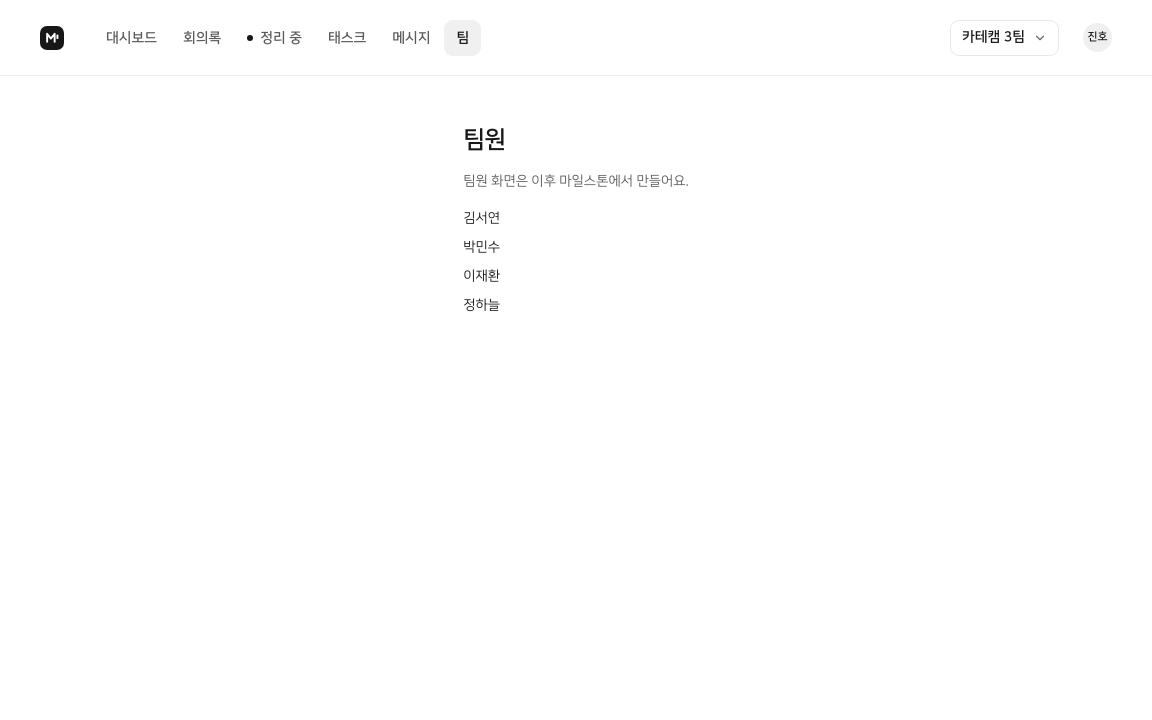
it: 로그아웃 (U2-7) › 로그아웃 뒤 다시 로그인하면 공간 개수 분기로 간다 — 재방문이 아니다
Expected: the list item "김서연" is shown, x1=463 y1=211 x2=500 y2=225
Click the button with aria-label "내 계정" at [1098, 38], box x1=1083 y1=23 x2=1112 y2=52
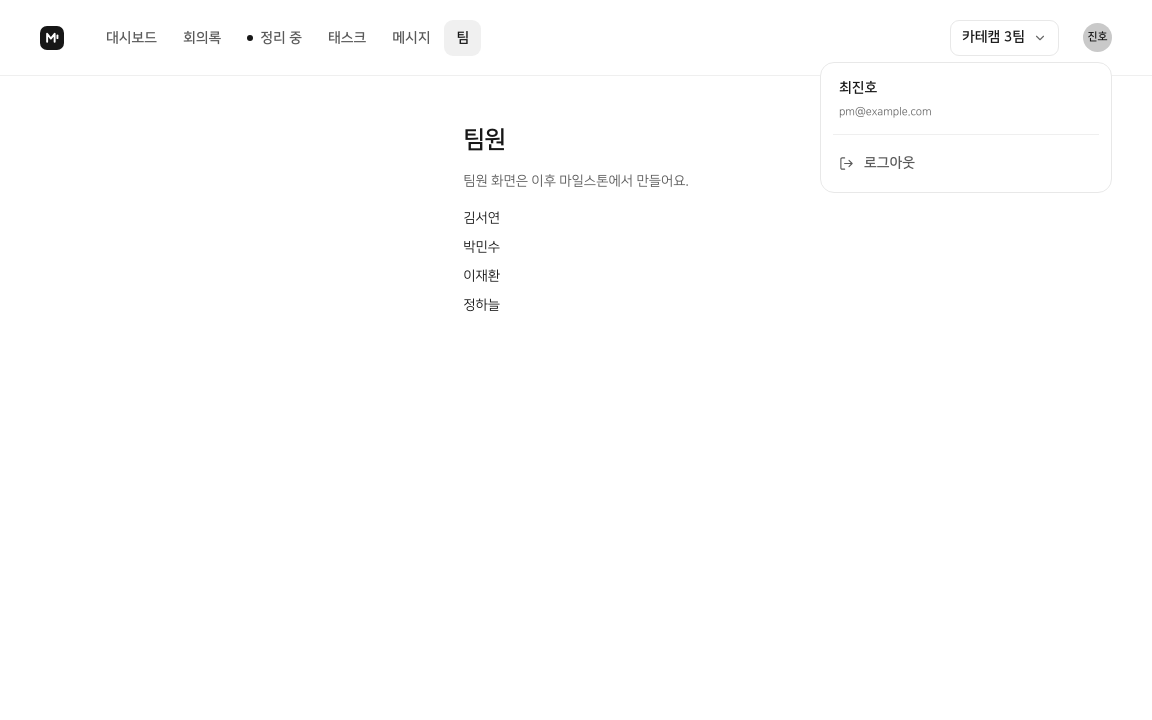
Click the menu item "로그아웃" at [877, 163], box x1=839 y1=155 x2=915 y2=171
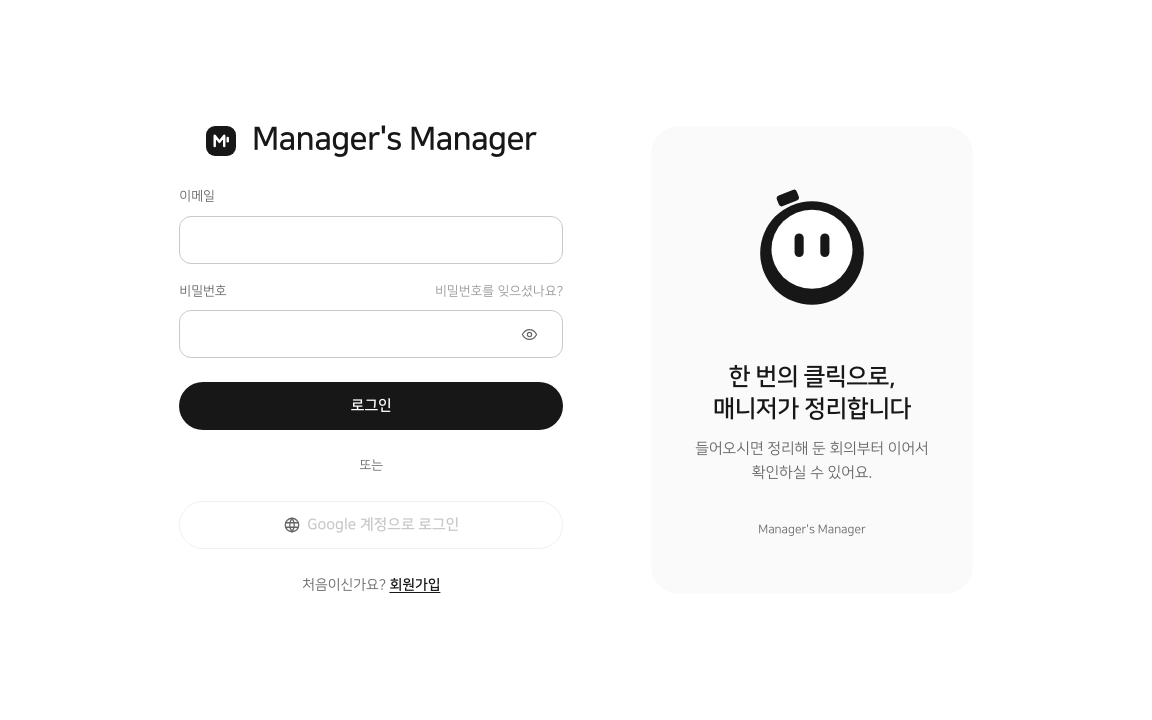
Type "pm@example.com" into the field labelled "이메일" at [371, 240], box x1=179 y1=216 x2=563 y2=264
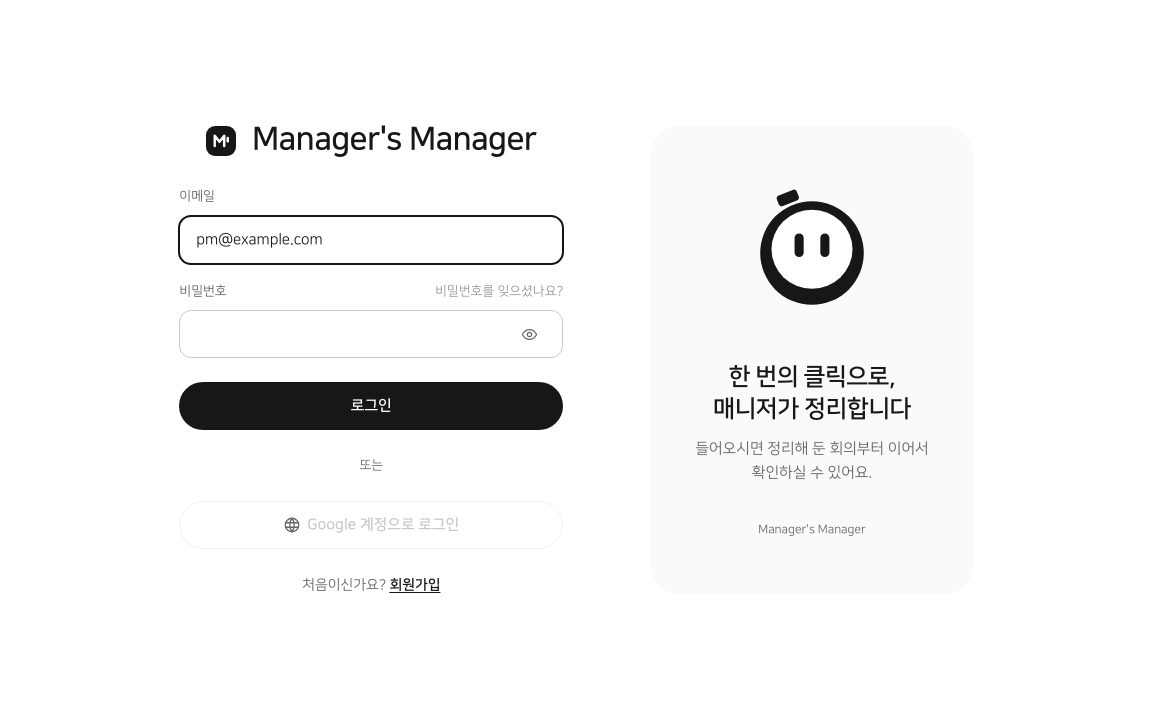
Type "mock-password" into the password field labelled "비밀번호" at [350, 334], box x1=196 y1=311 x2=504 y2=357
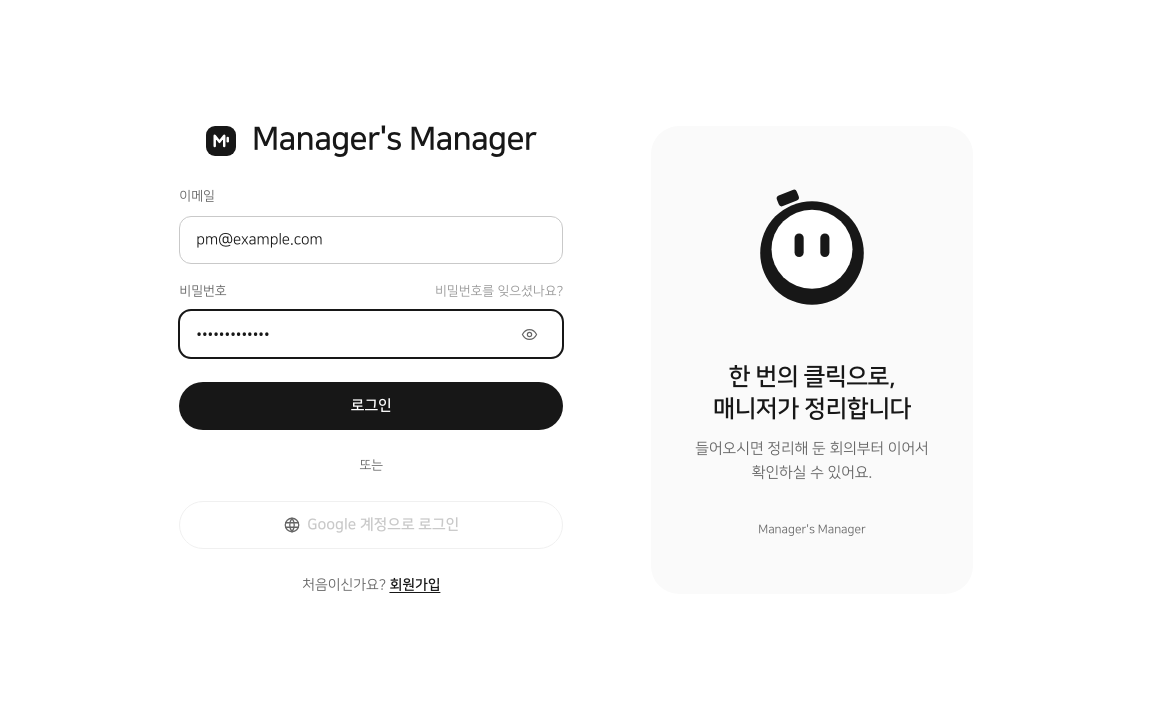
Click the button "로그인" at [371, 406], box x1=179 y1=382 x2=563 y2=430
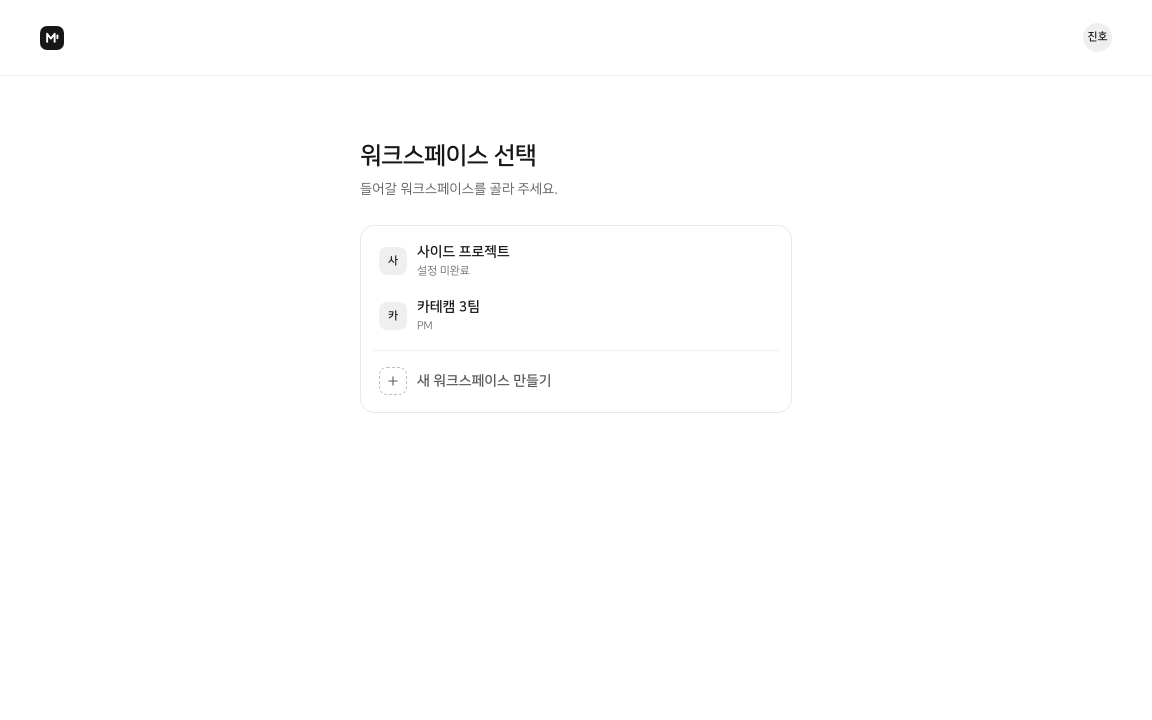
Now the heading "워크스페이스 선택" is shown, box x1=360 y1=143 x2=536 y2=169
